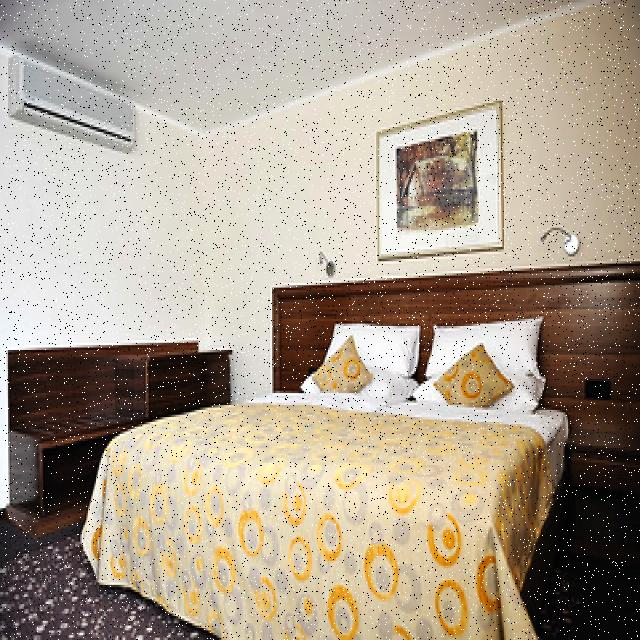bed: (106, 307, 564, 633)
